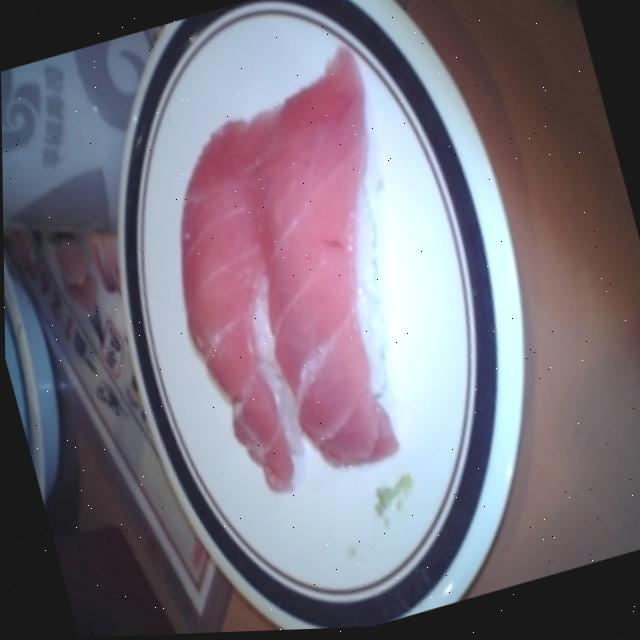寿司卷物: (111, 0, 493, 550)
